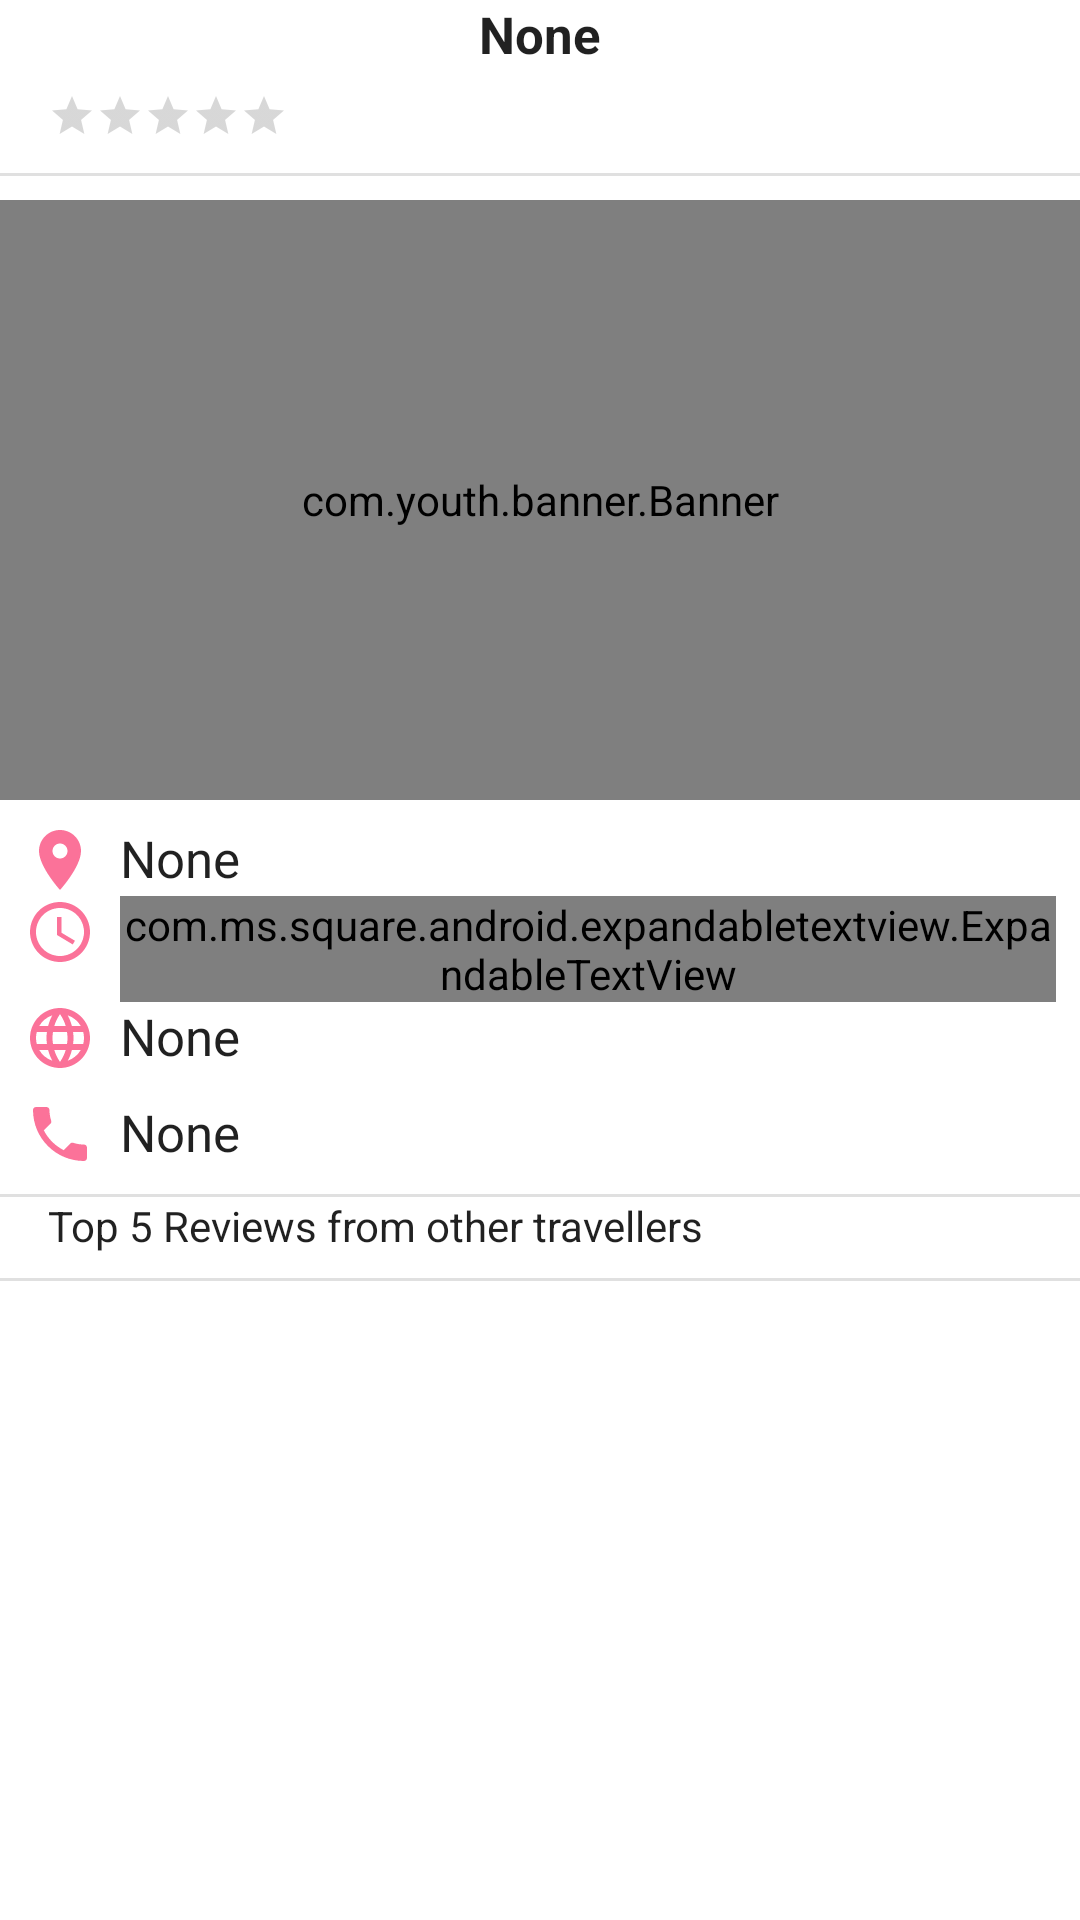

Named icons in this screenshot (1080x1920) and their centers, (x=x, y=y):
access time: (x=60, y=932)
language: (x=60, y=1038)
local phone: (x=60, y=1134)
location on: (x=60, y=860)
